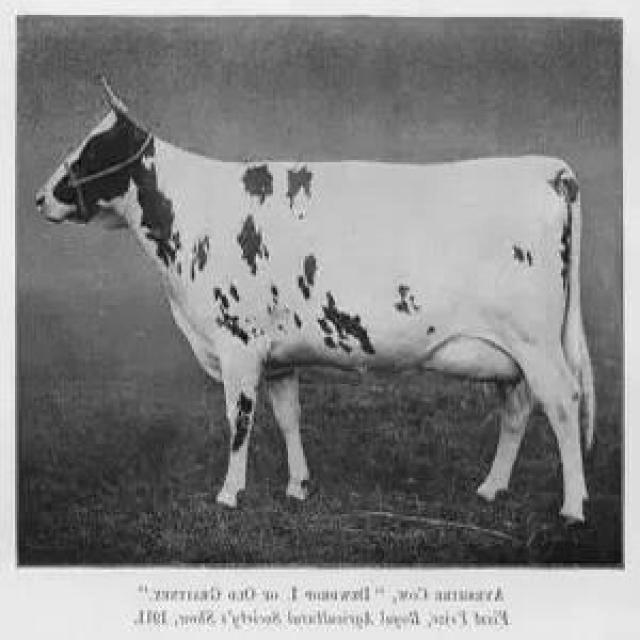cow: (38, 89, 595, 519)
